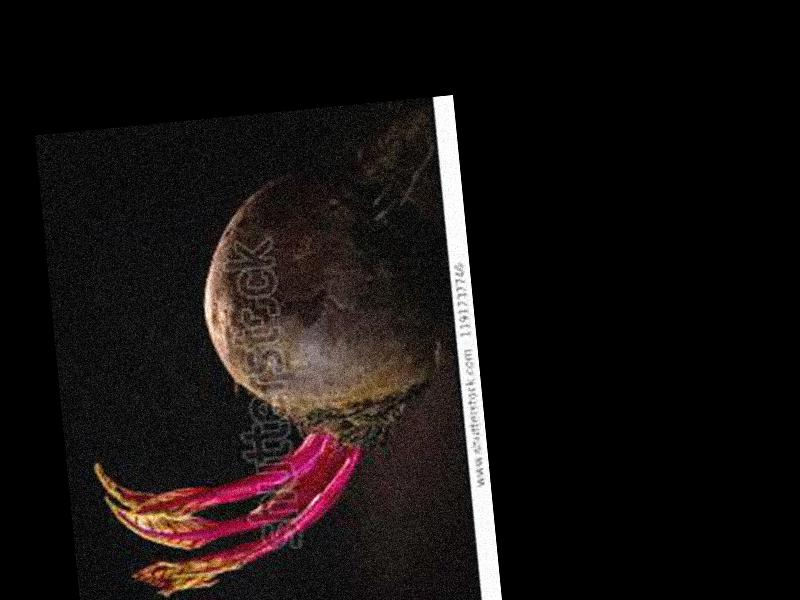Beet: (61, 96, 476, 600)
